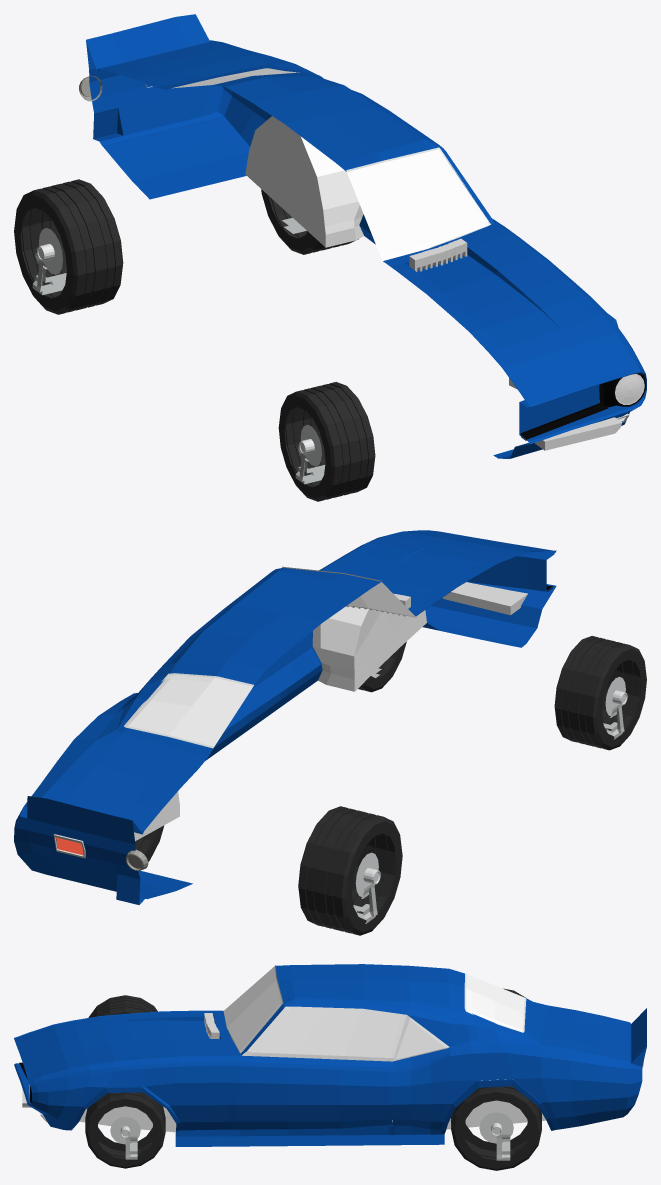
Rendered from car3.glb.
The picture shows the model from 3 angles, top to bottom: view 1: azimuth 30°, elevation 25°; view 2: azimuth 150°, elevation 25°; view 3: azimuth 270°, elevation 25°; orthographic projection. The views are drawn at different scales.
Visible parts, largest first — view 1: Carroceria.001, Ruedas_Tr, Parabrisas_Ad, Ruedas_Ad.002, Carroceria_2, Ruedas_Tr.001, Plano.002, Cubo, Rin_2_Tr, Rejilla, Rin_2_Ad; view 2: Carroceria.001, Ruedas_Tr, Ruedas_Ad.002, Parabrisas_Tr, Carroceria_2, Plano.002, Pueratas, Parabrisas_Ad, Ruedas_Ad.001, Rin_2_Tr, Rin_2_Ad; view 3: Carroceria.001, Pueratas, Ventana_1, Ruedas_Tr.001, Ruedas_Ad.001, Parabrisas_Ad, Parabrisas_Tr, Ventana_2, Ruedas_Ad.002, Rin_2_Tr.001, Rin_2_Ad.001, Marco_Ventana_2 (+1 smaller).
Boxes of the visible parts, x1,y1,x2,y2 form: Carroceria.001: (86,14,646,458); Ruedas_Tr: (14,179,123,314); Parabrisas_Ad: (347,149,489,261); Ruedas_Ad.002: (278,382,375,501); Carroceria_2: (519,384,642,441); Ruedas_Tr.001: (261,189,358,254); Plano.002: (534,417,621,450); Cubo: (409,238,467,271); Rin_2_Tr: (37,227,62,274); Rejilla: (520,403,608,440); Rin_2_Ad: (299,424,321,466); Carroceria.001: (14,530,556,904); Ruedas_Tr: (298,806,402,935); Ruedas_Ad.002: (554,636,646,750); Parabrisas_Tr: (126,674,252,746); Carroceria_2: (467,551,554,591); Plano.002: (442,582,527,615); Pueratas: (225,660,286,730); Parabrisas_Ad: (347,582,415,616); Ruedas_Ad.001: (358,641,406,692); Rin_2_Tr: (355,852,380,897); Rin_2_Ad: (605,676,627,715); Carroceria.001: (14,964,646,1146); Pueratas: (228,1055,392,1129); Ventana_1: (243,1006,406,1061); Ruedas_Tr.001: (451,1086,541,1170); Ruedas_Ad.001: (85,1092,165,1168); Parabrisas_Ad: (223,966,282,1052); Parabrisas_Tr: (466,974,524,1031); Ventana_2: (396,1020,445,1059); Ruedas_Ad.002: (88,995,157,1017); Rin_2_Tr.001: (479,1112,513,1143); Rin_2_Ad.001: (110,1117,140,1144); Marco_Ventana_2: (393,1015,449,1061).
Bounding box in the file's own units: 3.9 × 2.68 × 9.85.
